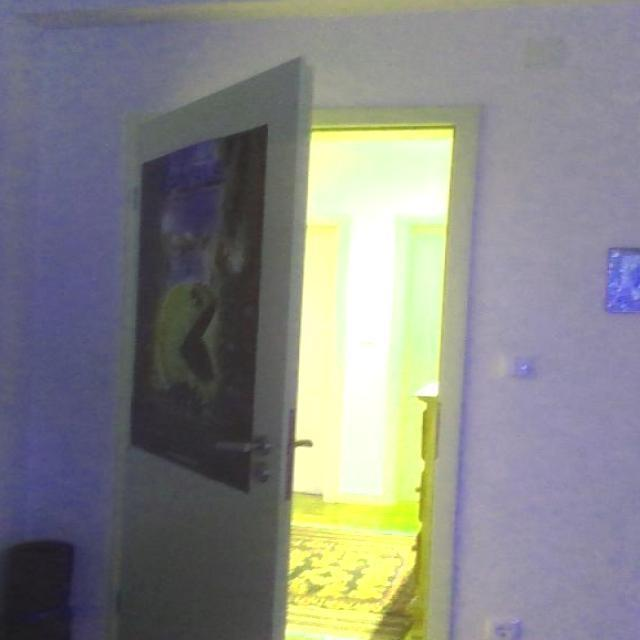door: (110, 54, 311, 638)
